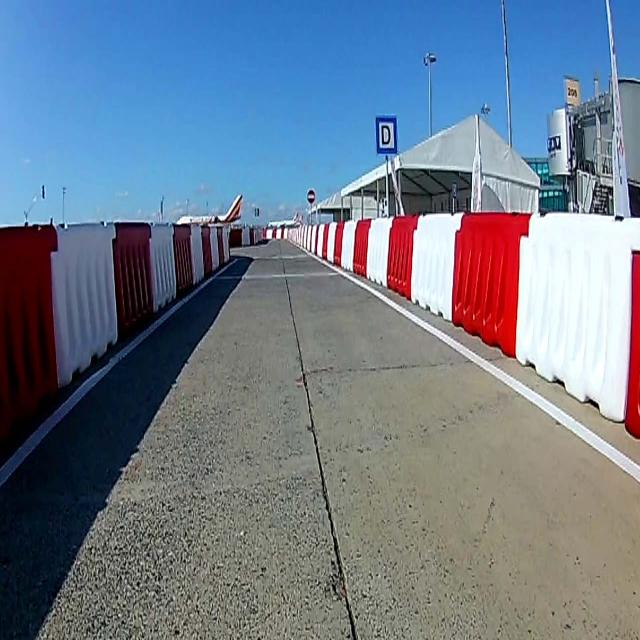durak: (374, 115, 398, 153)
girisyok: (304, 188, 318, 204)
